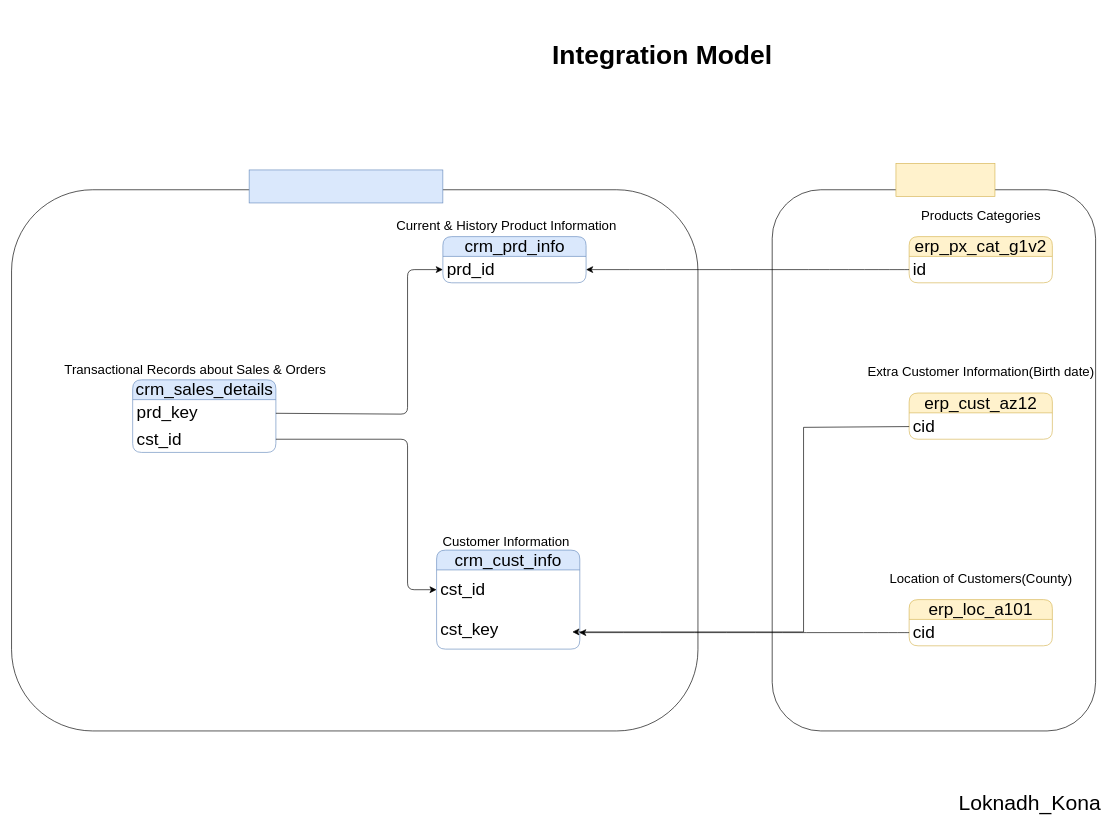
Image size: 1111x834. Some labels were removed from this diagram. The shapes that lost their labels are listed below. From the top down, each one's centre as x and y in pixels, then its label:
At (345,186): "CRM".
At (945,179): "ERP".
